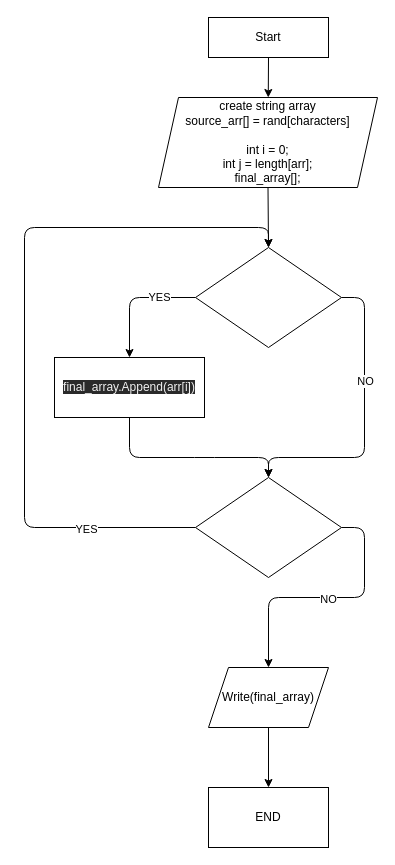
Image size: 395x865. Some labels were removed from this diagram. The shapes that lost their labels are listed below. From the top down, each one's centre as x and y in pixels, then its label:
At pixel 268 297: "length arr[i] <= 3".
At pixel 268 527: "i < length[arr]".
